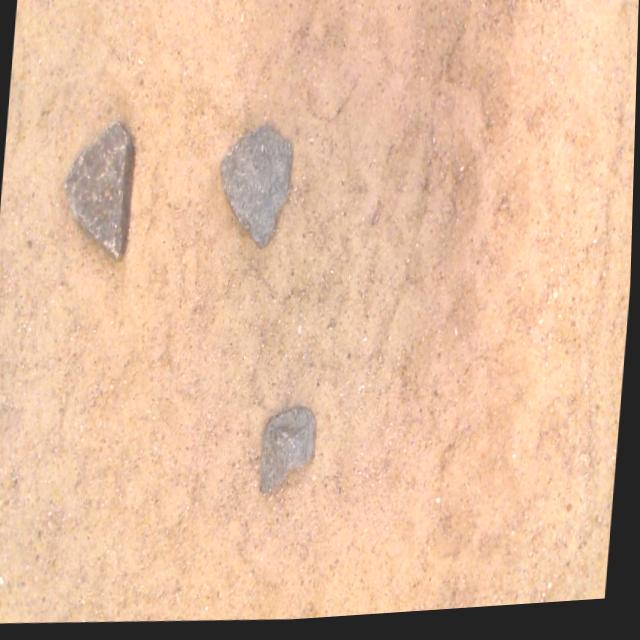rock: (66, 124, 135, 259), (222, 128, 292, 251), (263, 412, 318, 499)
